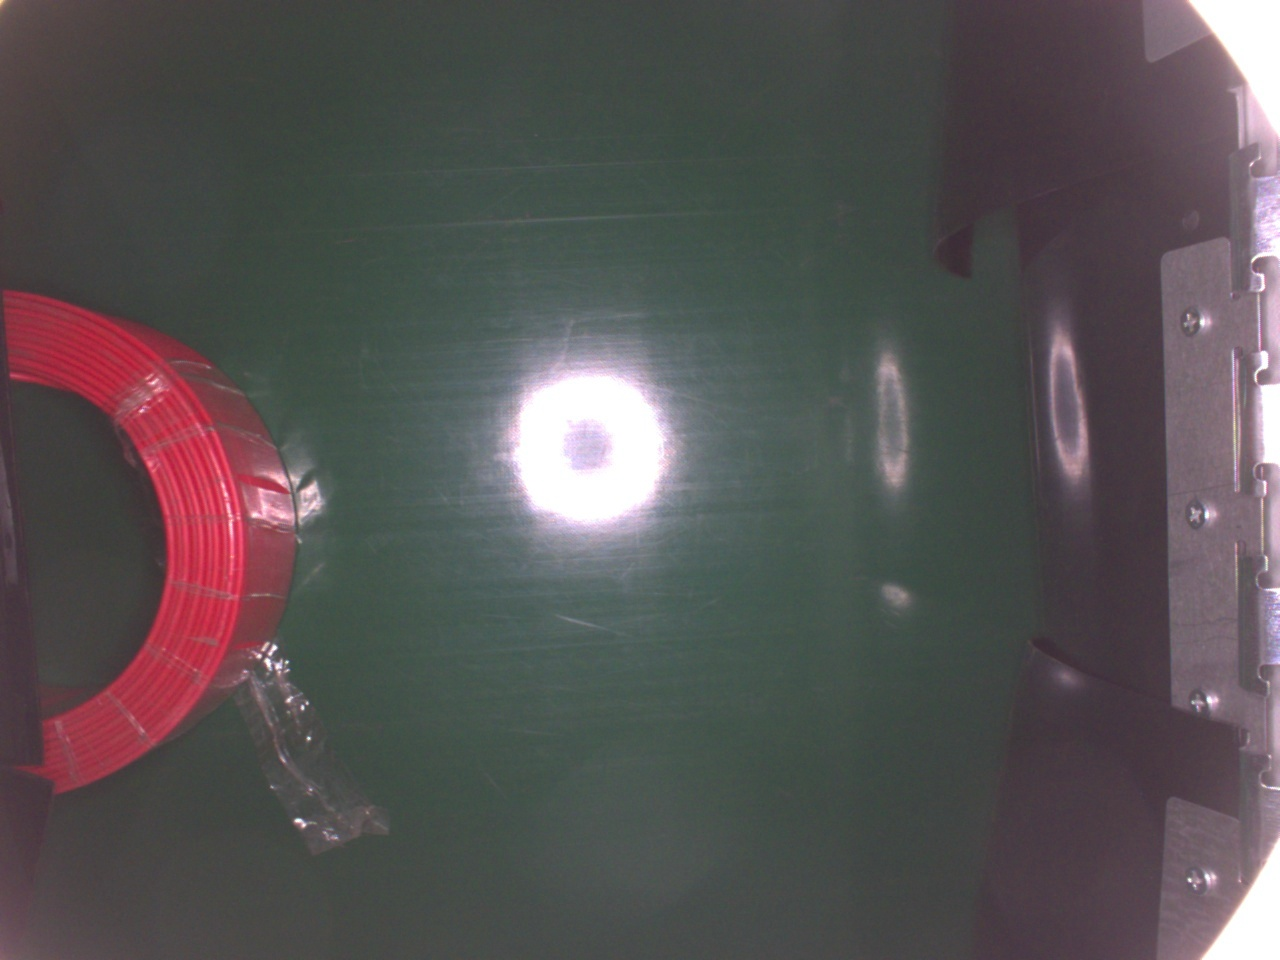red: (6, 283, 298, 791)
